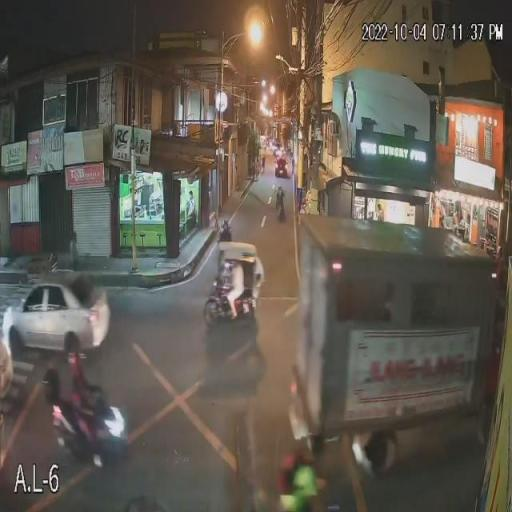helmet: (68, 348, 88, 380)
motorcycle: (50, 381, 129, 463)
rider: (68, 342, 94, 458)
